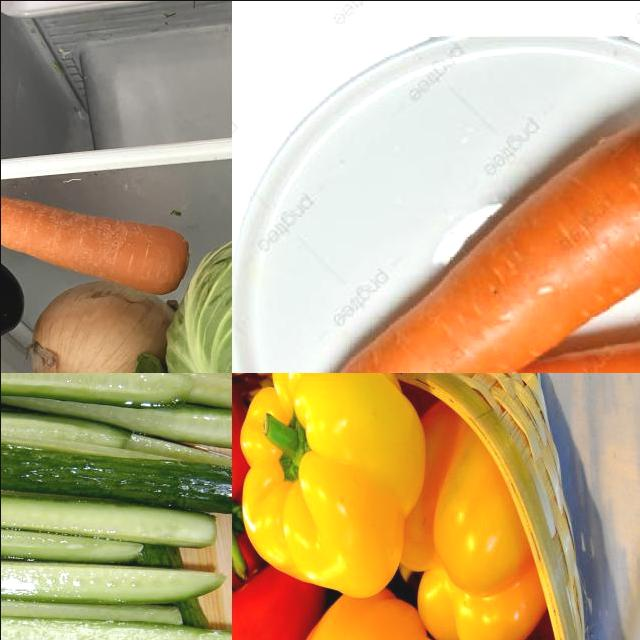bell_pepper: (241, 373, 427, 600), (388, 391, 556, 640)
cabbage: (127, 159, 232, 373)
carrot: (290, 113, 640, 373), (1, 171, 191, 298)
cucumber: (1, 440, 232, 518)
eggplant: (1, 206, 28, 340)
onion: (28, 277, 185, 373)
